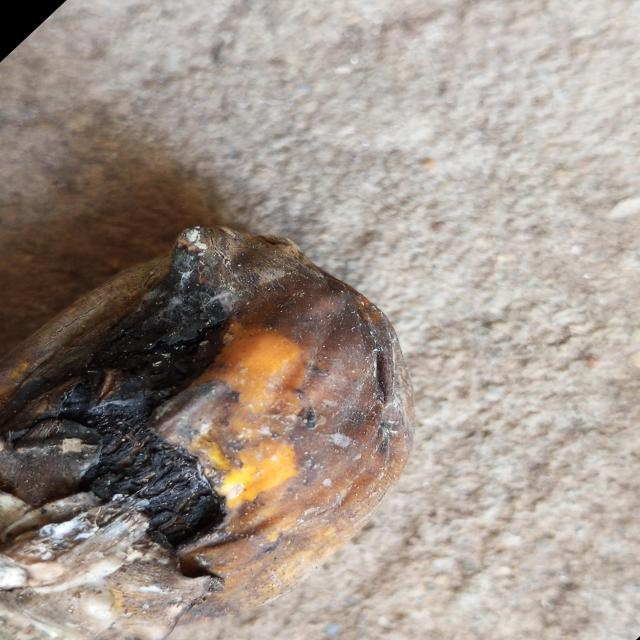damaged: (0, 225, 412, 640)
